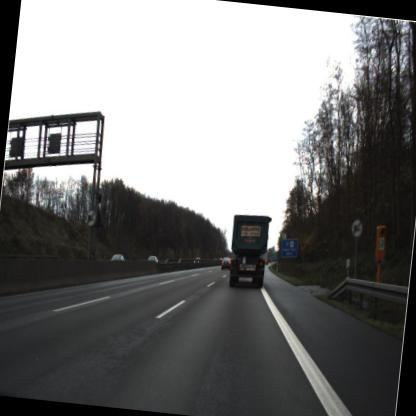other: (347, 215, 365, 240)
